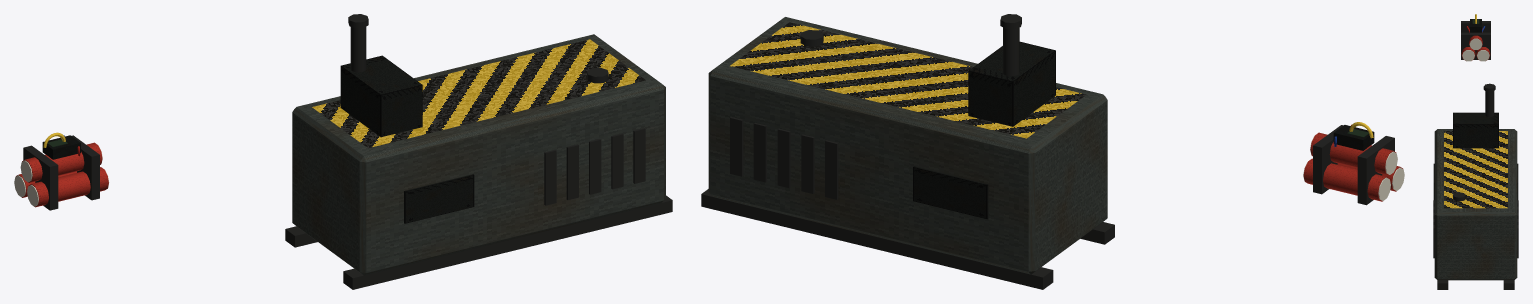
The model's file is ordnance.glb.
3 views of the same model, side by side, from view 1: azimuth 30°, elevation 25°; view 2: azimuth 150°, elevation 25°; view 3: azimuth 270°, elevation 25° (orthographic). The views are drawn at different scales.
Parts seen in each view (by area): view 1: generator, bomb; view 2: generator, bomb; view 3: generator, bomb.
Part boxes in pixels (<box>): generator: <box>285,14,672,289</box>; bomb: <box>14,132,109,210</box>; generator: <box>701,14,1114,289</box>; bomb: <box>1303,122,1404,205</box>; generator: <box>1433,83,1518,289</box>; bomb: <box>1461,14,1490,61</box>.
Bounding box in the file's own units: 4.4 × 1.55 × 0.93.
12 materials, 5 textured.
